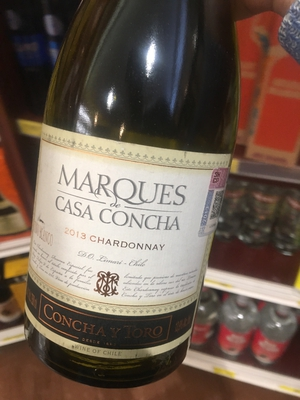marques de casa concha chardonnay: (22, 4, 244, 382)
